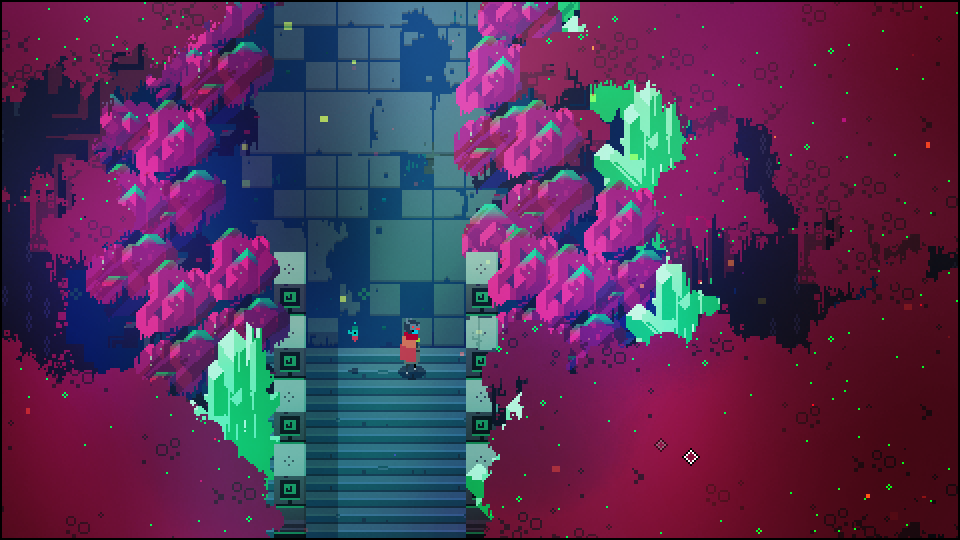player: (399, 318, 424, 379)
